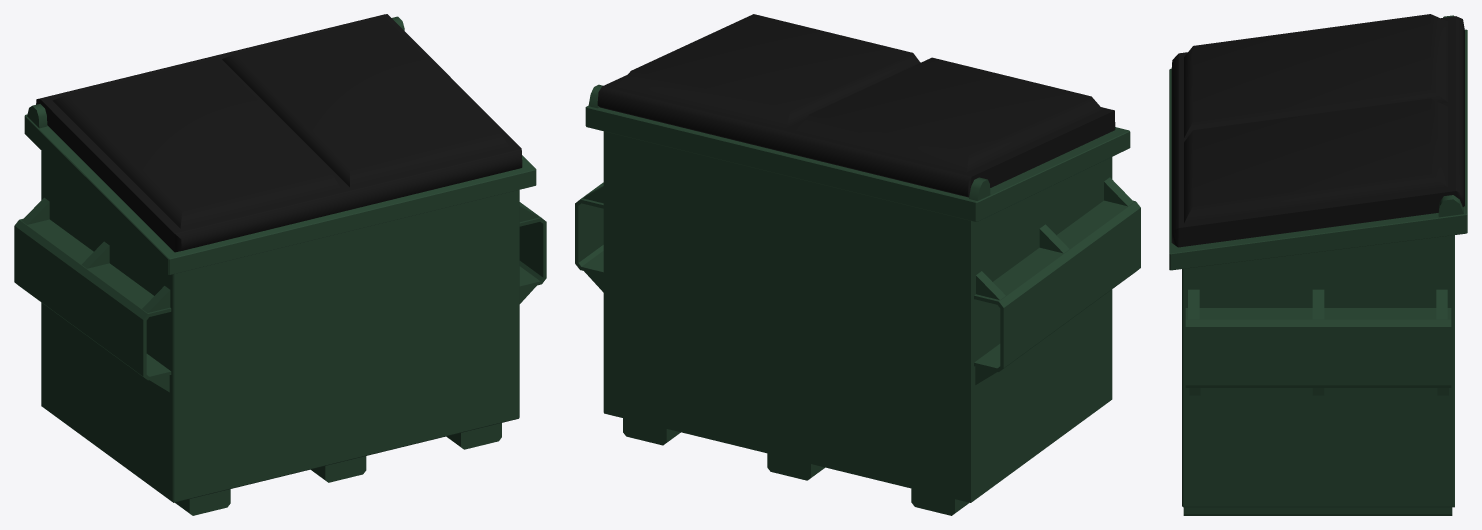
File: sm_dumpster.fbx
3 renders of one model, left to right at view 1: azimuth 30°, elevation 25°; view 2: azimuth 150°, elevation 25°; view 3: azimuth 270°, elevation 25°, orthographic. The views are drawn at different scales.
Visible parts, largest first — view 1: DumpsterBody, DumpsterLid; view 2: DumpsterBody, DumpsterLid; view 3: DumpsterBody, DumpsterLid.
Part boxes in pixels (x1,y1,x2,y2): DumpsterBody: [14, 16, 546, 515]; DumpsterLid: [36, 14, 522, 252]; DumpsterBody: [575, 84, 1140, 515]; DumpsterLid: [597, 14, 1115, 197]; DumpsterBody: [1169, 15, 1467, 515]; DumpsterLid: [1171, 14, 1464, 247].
Bounding box in the file's own units: 268 × 213 × 167.
